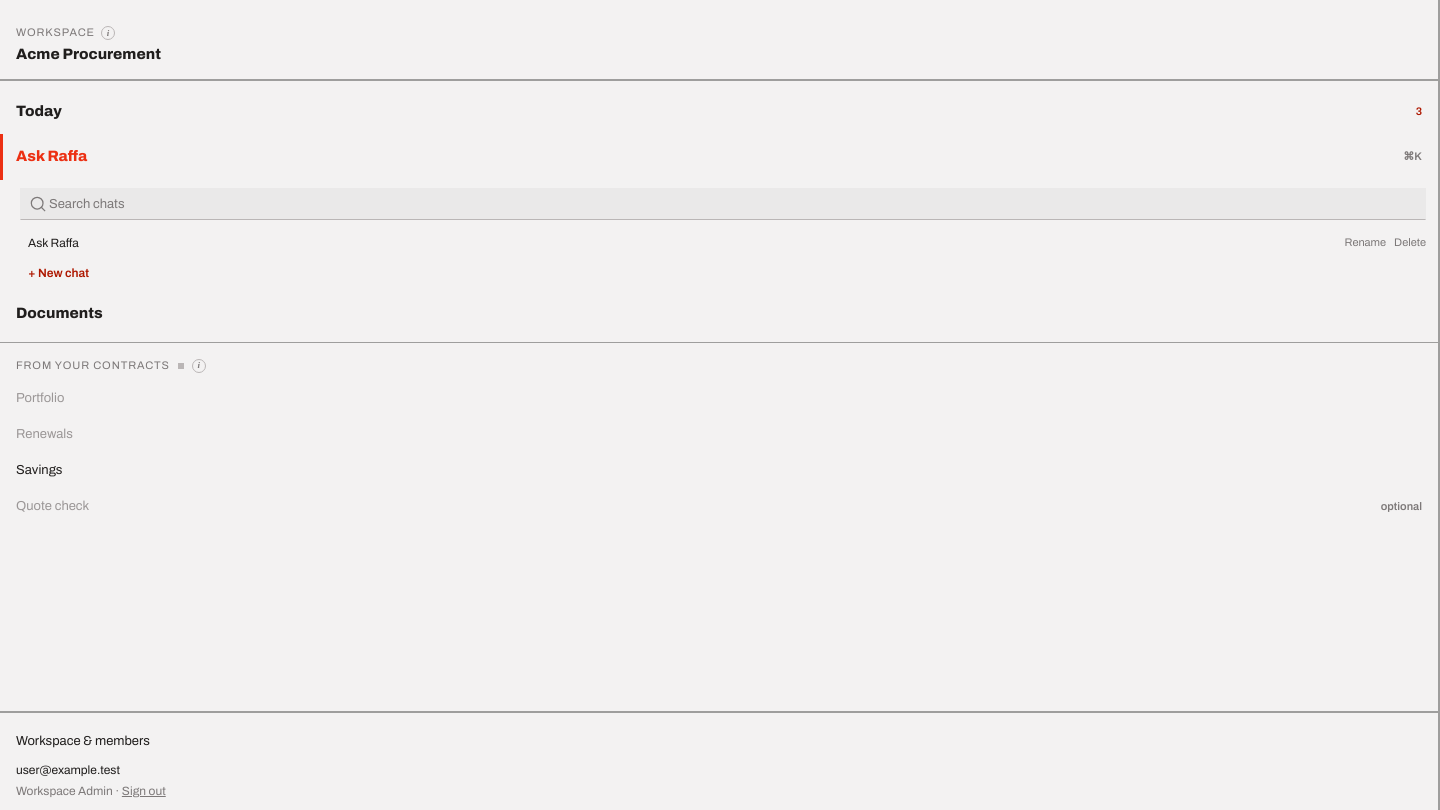
RailNav (V2 two-tier rail, ADR-024 amendment; task E13/F09/US01/T01, gap G-IA-V2) › rename a chat › Rename opens a field on the current title; Enter saves and the row shows the name at once
Expected: the search field labelled "Search chats" is shown, [20,188,1426,220]
Click the button with aria-label "Rename Ask Raffa" at [1365, 243], box [1344,230,1386,255]
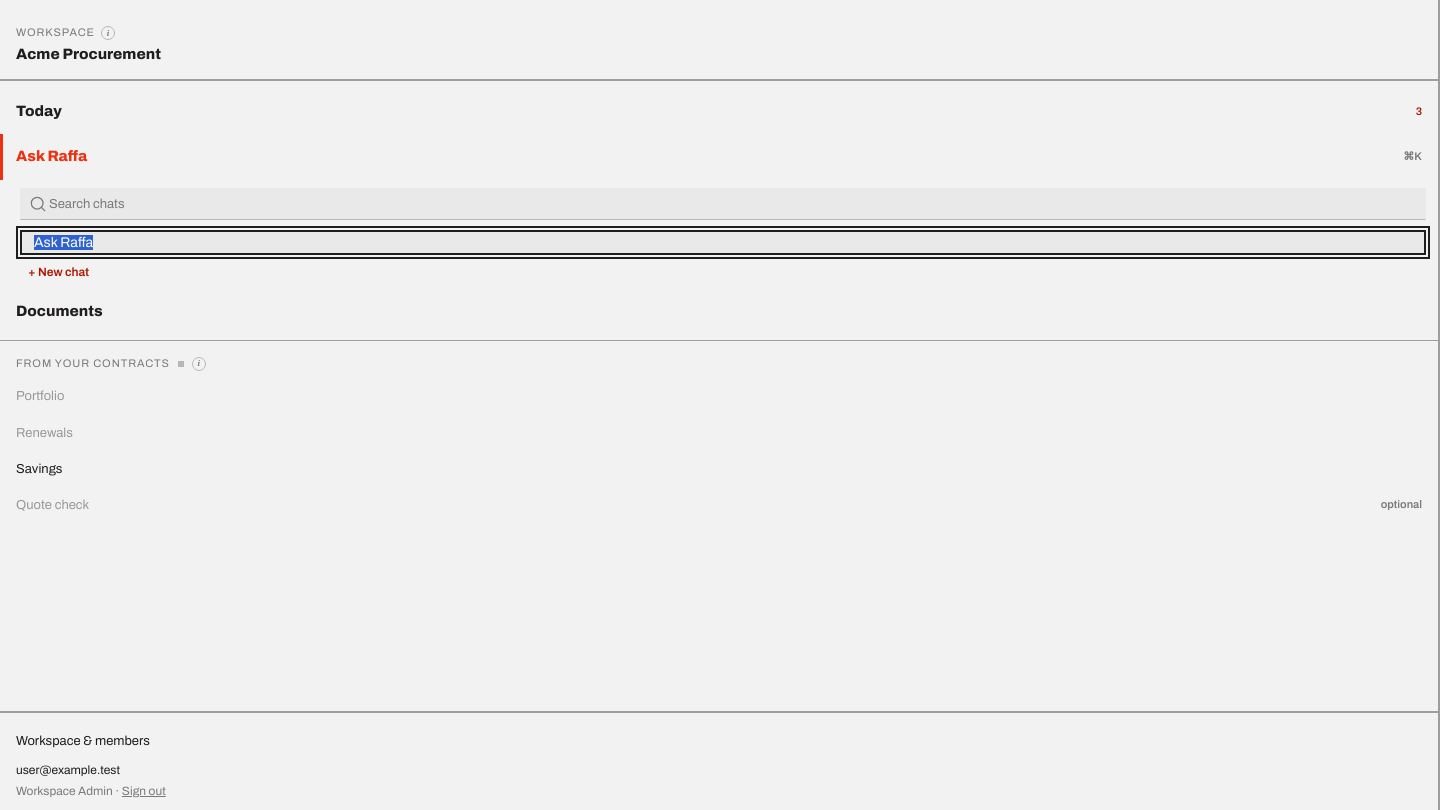
Now the field named "Rename Ask Raffa" holds "Ask Raffa"
Replace the text in the field named "Rename Ask Raffa" with "Atlassian renewal" at [723, 242], box [20,230,1426,254]
Then press Enter
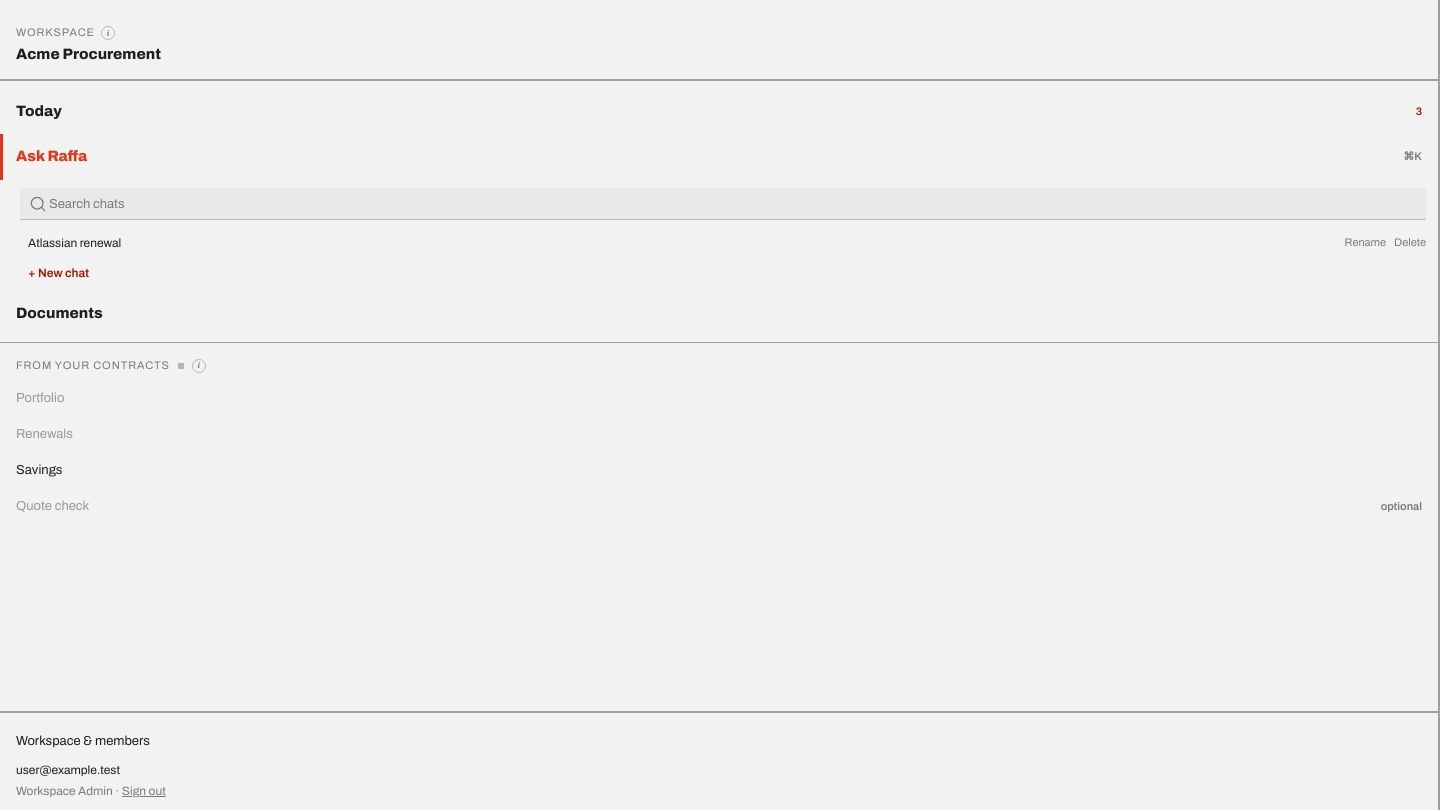
Now the link "Atlassian renewal" is shown, box [28,236,121,250]
